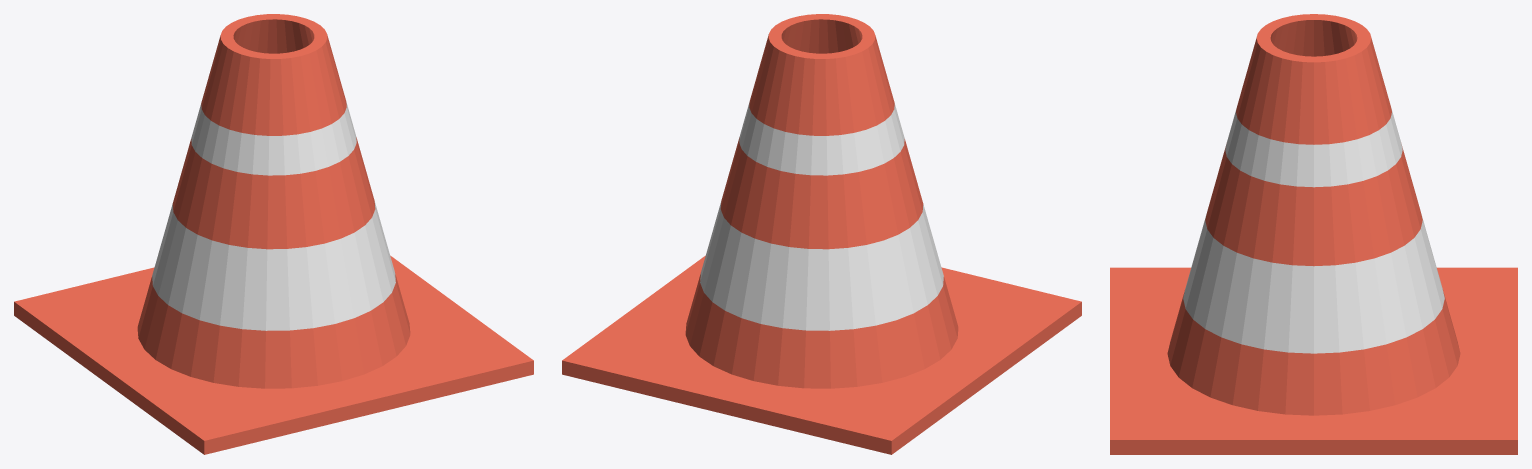
Rendered from traffic_cone.fbx.
3 views of the same model, side by side, from view 1: azimuth 30°, elevation 25°; view 2: azimuth 150°, elevation 25°; view 3: azimuth 270°, elevation 25° (orthographic). The views are drawn at different scales.
Parts seen in each view (by area): view 1: Plane; view 2: Plane; view 3: Plane.
Part boxes in pixels (x1,y1,x2,y2): Plane: [14, 14, 533, 454]; Plane: [562, 14, 1081, 454]; Plane: [1110, 14, 1517, 454].
Size of the model in its own units: 80 by 71.57 by 80.
